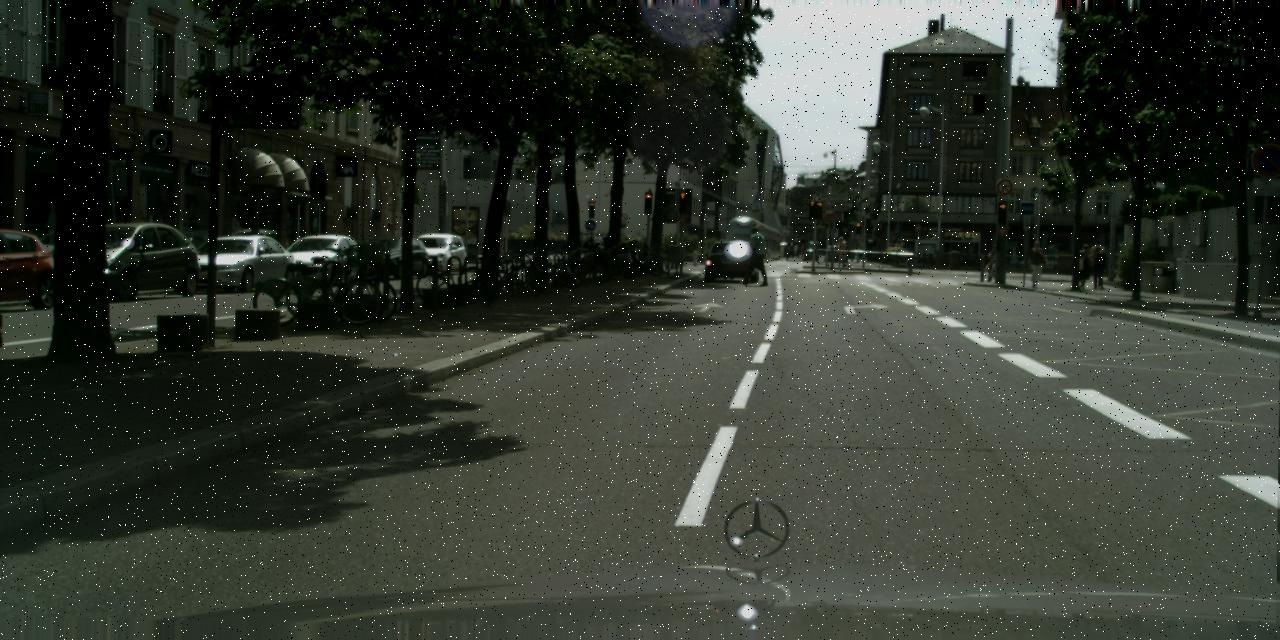ped: (742, 226, 766, 285), (1087, 238, 1107, 290), (1025, 240, 1044, 288), (1074, 244, 1092, 288), (593, 233, 602, 256), (602, 233, 610, 256), (837, 237, 846, 251)
